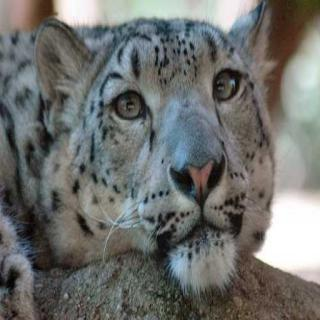-: (0, 2, 283, 320)
